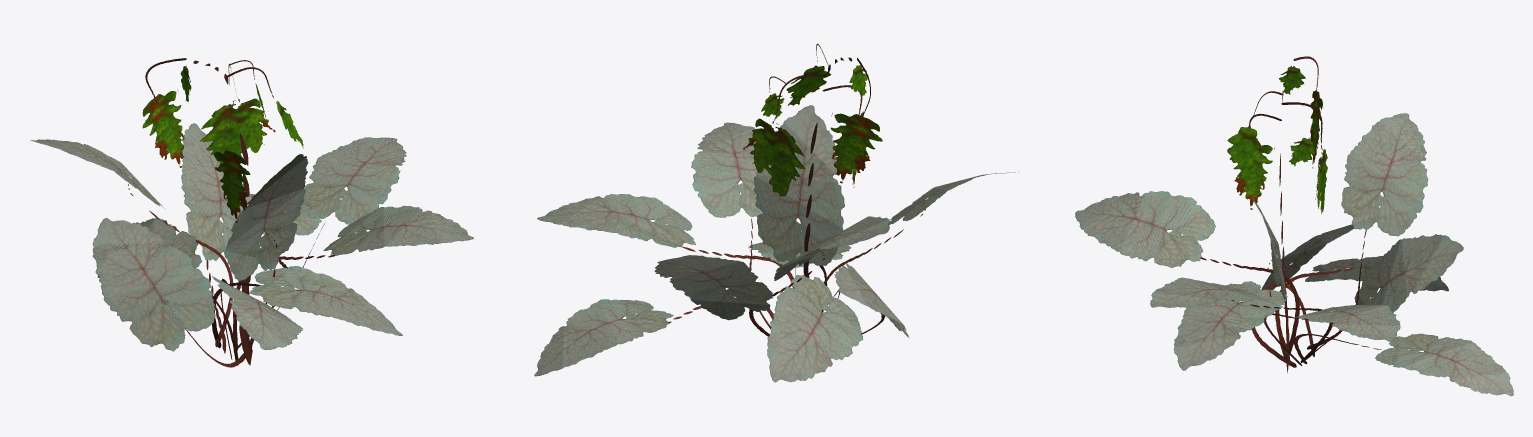
File: Spin Reef D7.fbx
3 views of the same model, side by side, from view 1: azimuth 30°, elevation 25°; view 2: azimuth 150°, elevation 25°; view 3: azimuth 270°, elevation 25° (orthographic). The views are drawn at different scales.
Visible parts, largest first — view 1: Spin Reef D7; view 2: Spin Reef D7; view 3: Spin Reef D7.
Boxes of the visible parts, x1,y1,x2,y2 form: Spin Reef D7: (30,58,473,367); Spin Reef D7: (534,43,1018,382); Spin Reef D7: (1075,56,1513,396).
Size of the model in its own units: 194 by 206 by 220.
